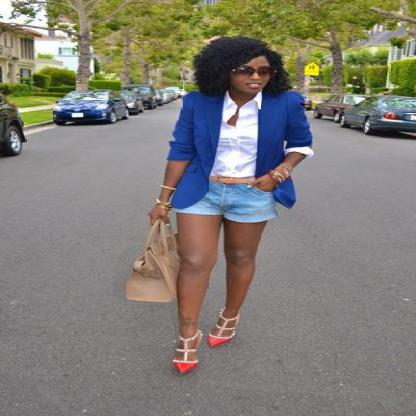bag: (126, 218, 177, 301)
jacket: (167, 88, 313, 208)
shirt: (212, 91, 261, 177)
shoe: (173, 324, 234, 372)
shorts: (176, 182, 285, 222)
